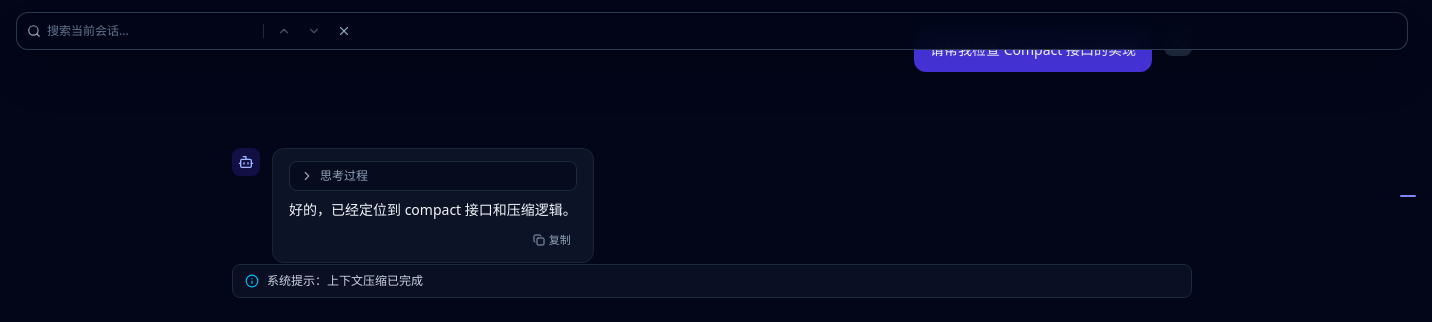
Scenario: In-conversation search (Ctrl+F) › ChatView search bar supports match counting, Enter/Shift+Enter cycling, thinking auto-expand, and Escape close
Later steps or results of the test are not shown.
Step 1. Type "compact" into the field named "在当前会话中搜索" → (151, 31), box [47, 23, 255, 39]
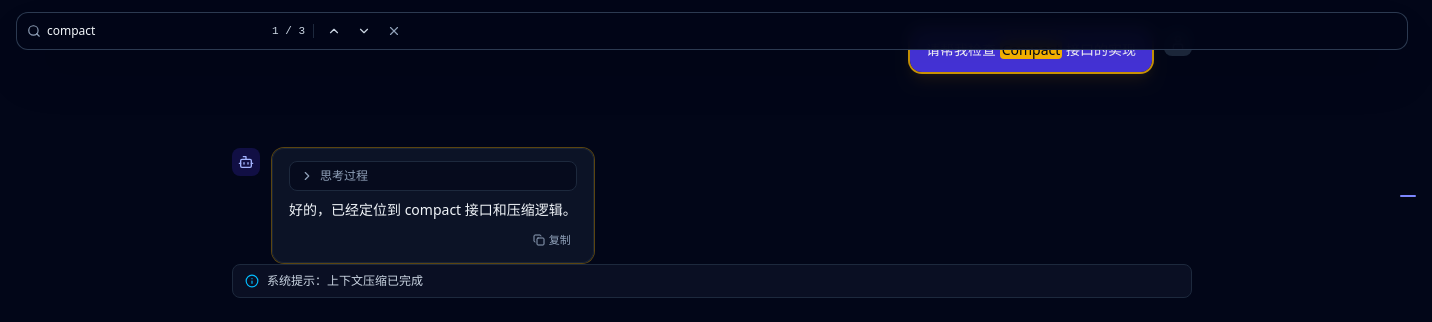
expect the text with test id "chat-search-count" reads "1 / 3": met, box [272, 25, 305, 37]
Step 2. Press Enter in the field named "在当前会话中搜索", box [47, 23, 255, 39]
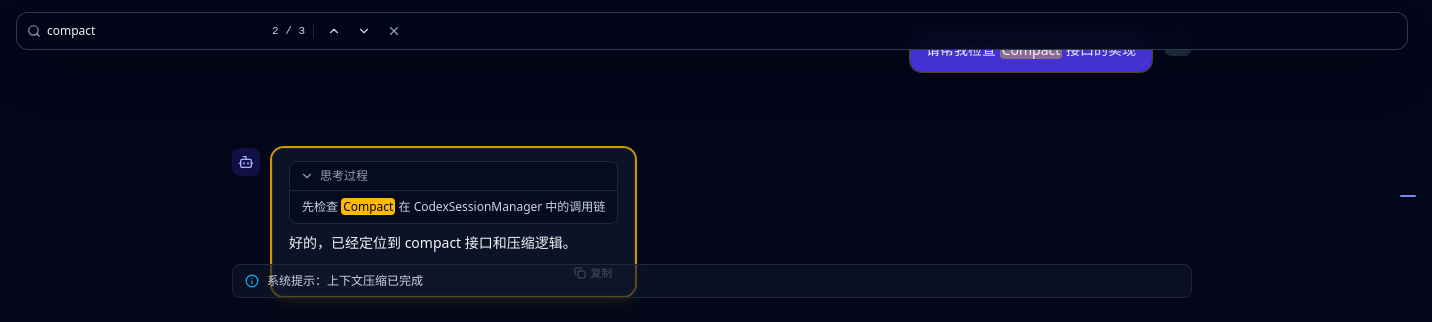
expect the text with test id "chat-search-count" reads "2 / 3": met, box [272, 25, 305, 37]
expect the text "先检查 Compact 在 CodexSessionManager 中的调用链" is shown: met, box [290, 190, 617, 223]
Step 3. Press Enter in the field named "在当前会话中搜索", box [47, 23, 255, 39]
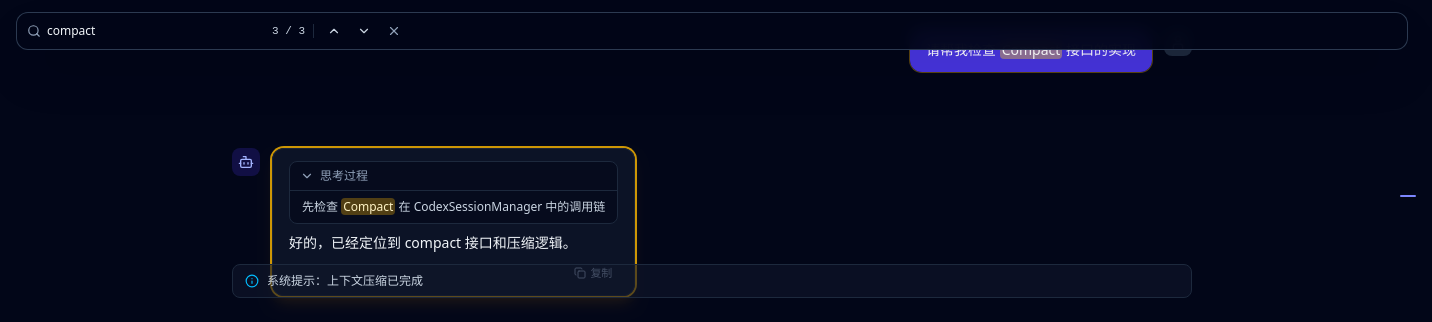
expect the text with test id "chat-search-count" reads "3 / 3": met, box [272, 25, 305, 37]
Step 4. Press Enter in the field named "在当前会话中搜索", box [47, 23, 255, 39]
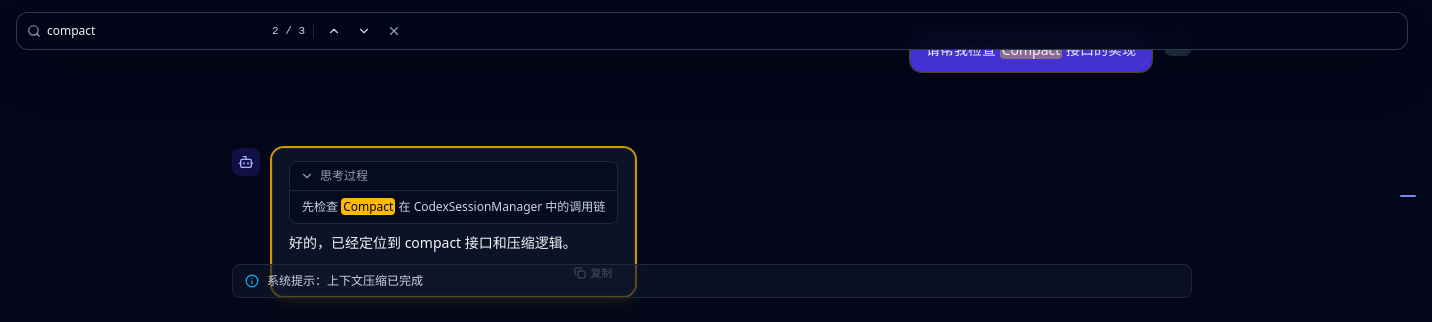
expect the text with test id "chat-search-count" reads "2 / 3": met, box [272, 25, 305, 37]
// Non-matching query displays 0 / 0
Step 5. Replace the text in the field named "在当前会话中搜索" with "不存在的关键词" → (151, 31), box [47, 23, 255, 39]
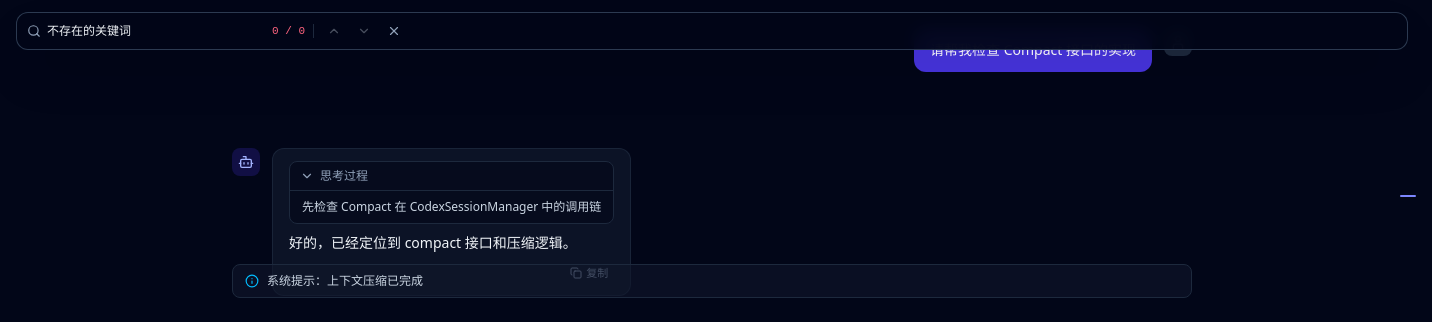
expect the text with test id "chat-search-count" reads "0 / 0": met, box [272, 25, 305, 37]
